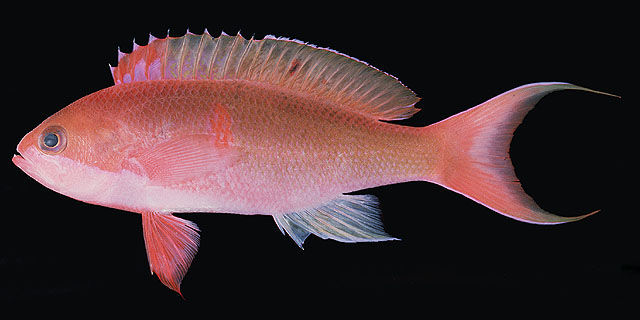fish: (11, 28, 621, 297)
